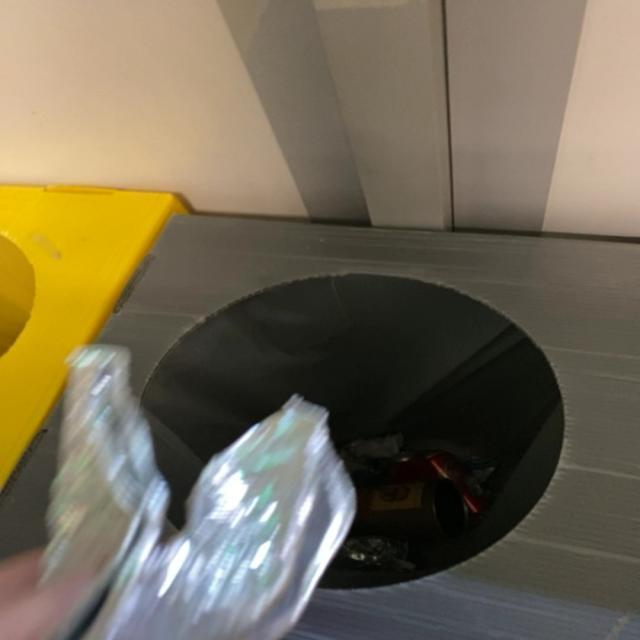Bin: (97, 216, 639, 640)
Metal: (4, 345, 354, 640)
